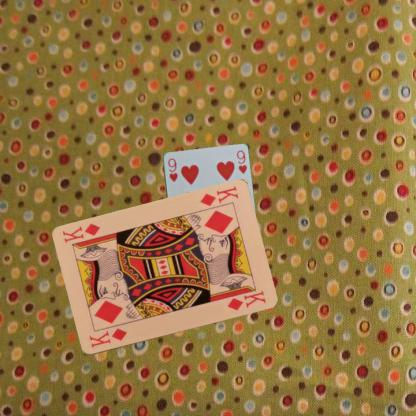9h: (165, 156, 179, 183)
Kd: (198, 184, 240, 208), (86, 326, 128, 349)
